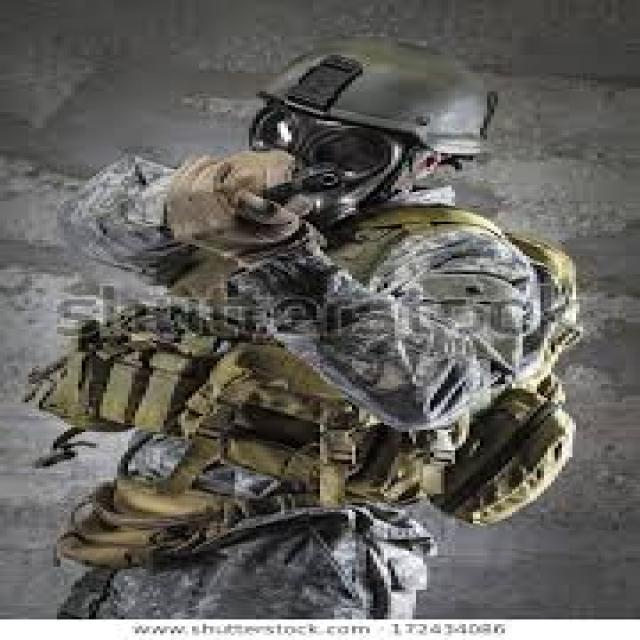soldier: (75, 43, 575, 622)
